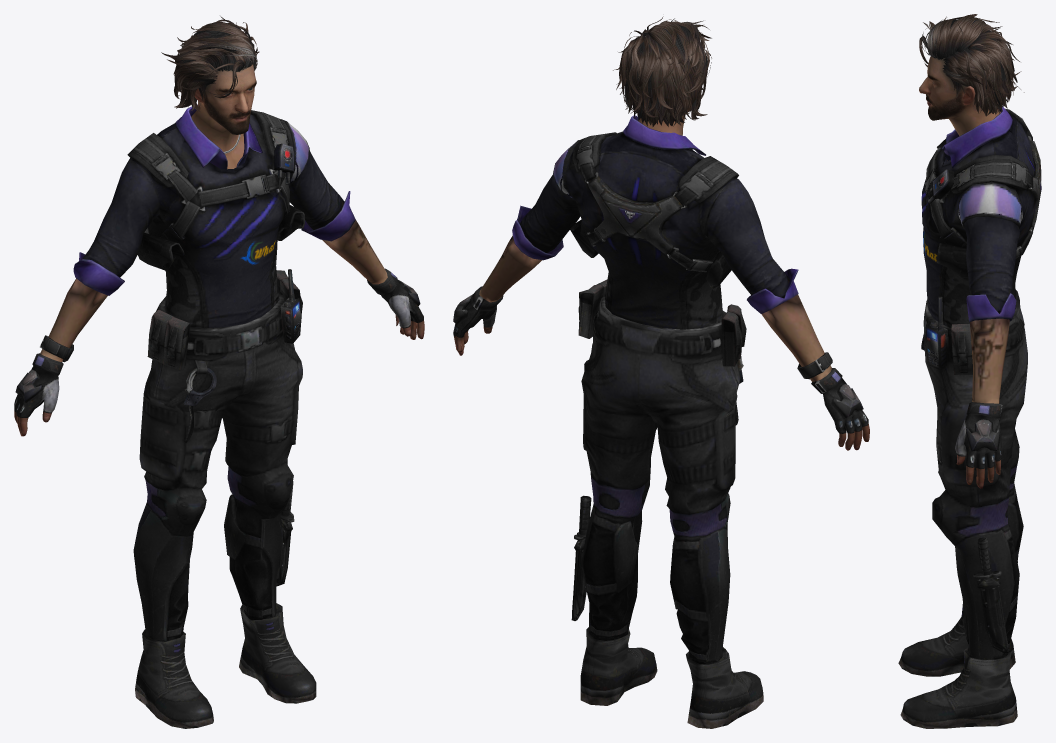
File: Elite Andrew.obj
3 renders of one model, left to right at view 1: azimuth 30°, elevation 25°; view 2: azimuth 150°, elevation 25°; view 3: azimuth 270°, elevation 25°, orthographic.
Parts seen in each view (by area): view 1: Elite_Andrew; view 2: Elite_Andrew; view 3: Elite_Andrew.
Boxes of the visible parts, bbox=[...] form: Elite_Andrew: bbox=[14, 16, 424, 728]; Elite_Andrew: bbox=[453, 16, 869, 728]; Elite_Andrew: bbox=[898, 14, 1041, 728].
Size of the model in its own units: 0.2994 by 0.4765 by 0.0913.
1 material, 1 textured.
